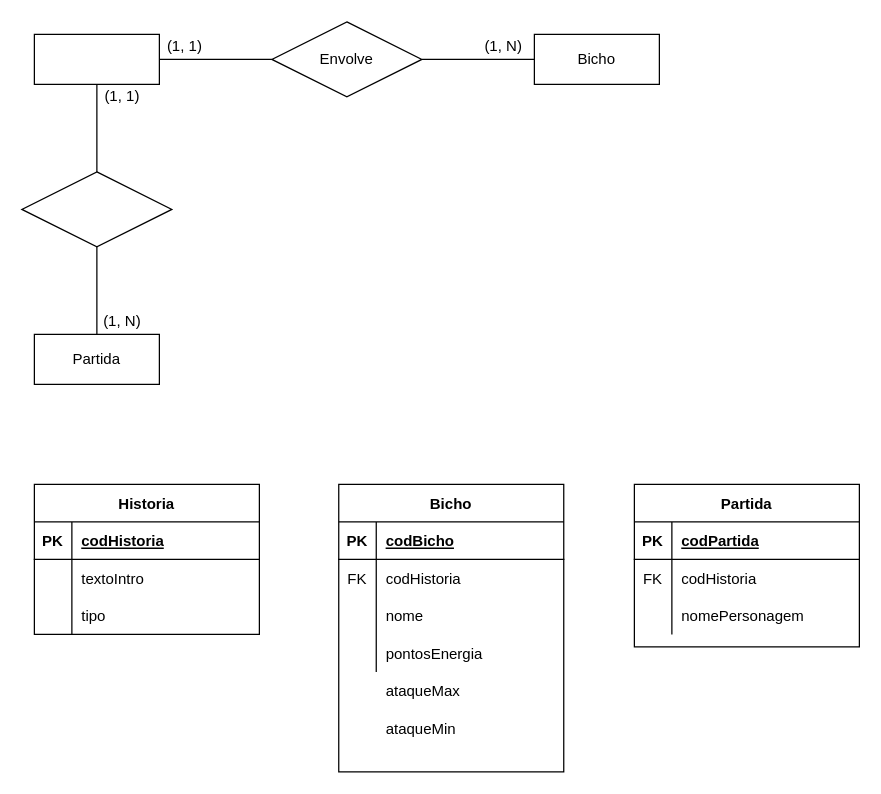
Some shapes in this 881 by 794 pixel diagram are drawn without their labels. Here are the shapes that lost their labels. From the top down, the centre of each, then its label:
At (96,58): "História".
At (96,209): "Conta".
